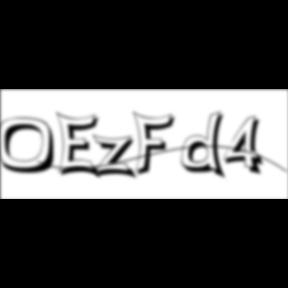4: (222, 115, 270, 179)
E: (56, 110, 106, 182)
F: (133, 110, 181, 178)
O: (0, 117, 64, 176)
d: (182, 110, 232, 182)
z: (92, 134, 142, 182)
